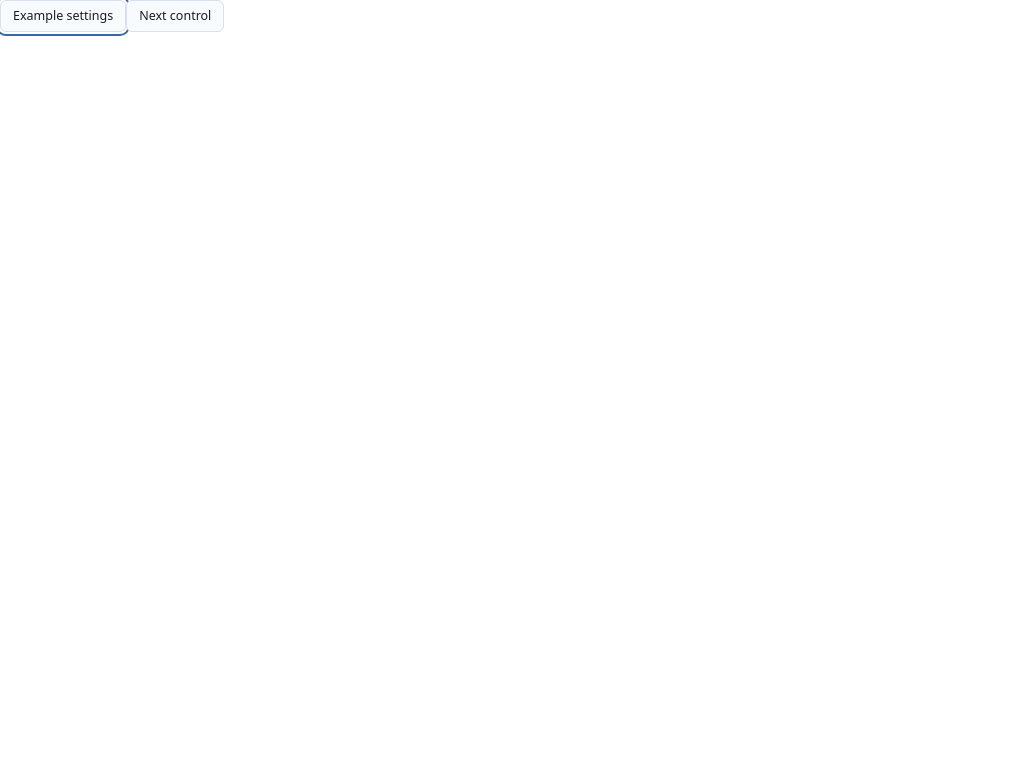
Test: asks a caller that keeps its state, and shows what the caller says
Earlier steps of the test are not shown.
Click the button "Example settings" at (63, 16), box [0, 0, 126, 32]
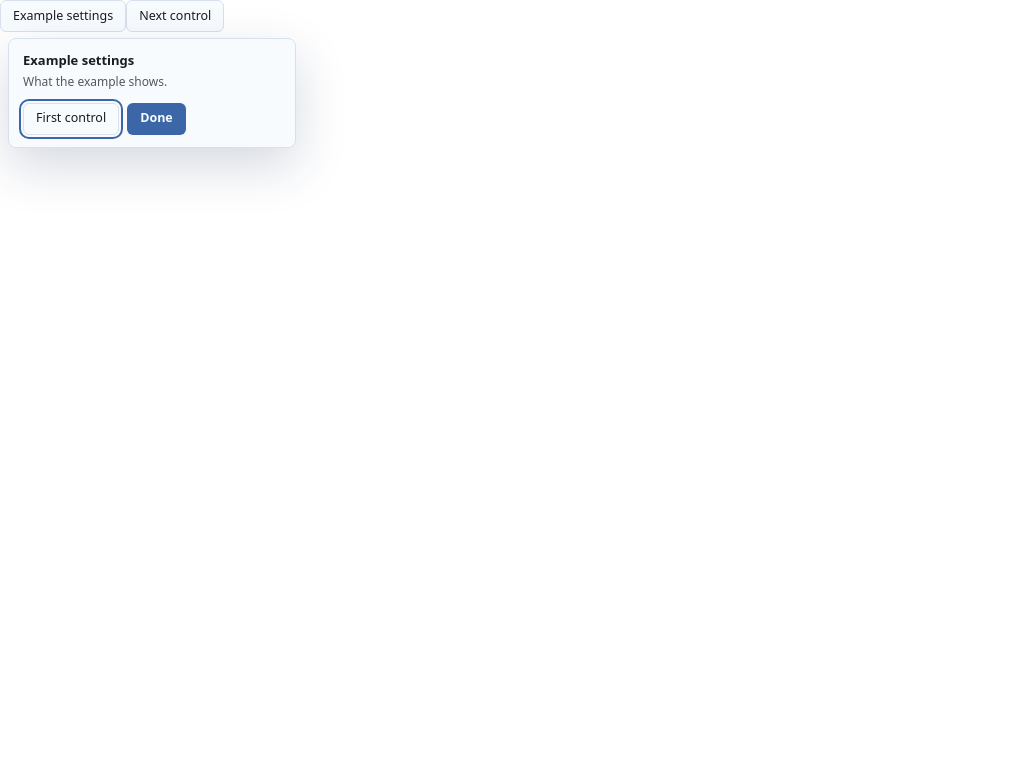
Check: the dialog is shown, box [8, 38, 296, 148]
